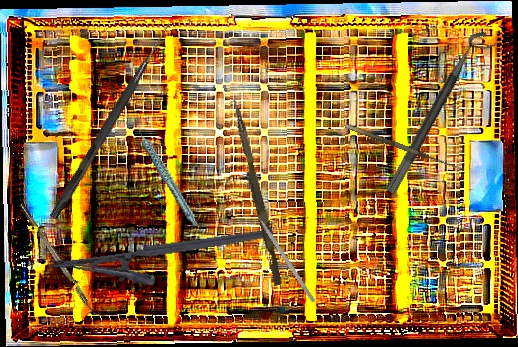Chopper: (18, 198, 104, 321), (250, 202, 321, 304)
Fixation Ring: (385, 26, 499, 203)
Handpiece: (135, 113, 198, 235)
Hook Surgical: (49, 19, 173, 222), (344, 117, 467, 173)
Needle Holder: (46, 227, 278, 300)
Pusher: (224, 97, 288, 286)
